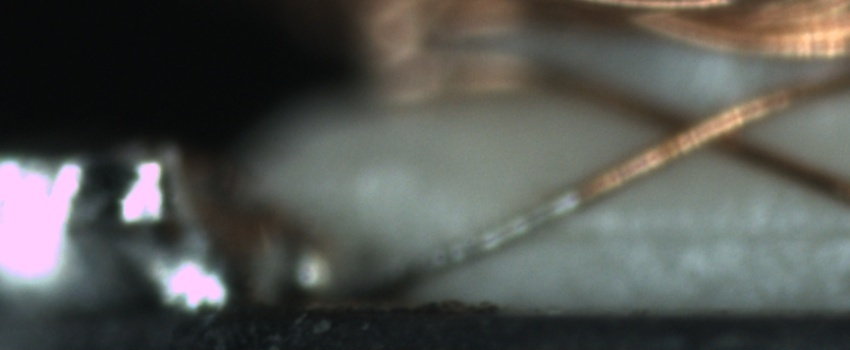CL: (650, 92, 755, 160)
DL: (535, 203, 850, 267)
TS: (321, 184, 583, 308)
